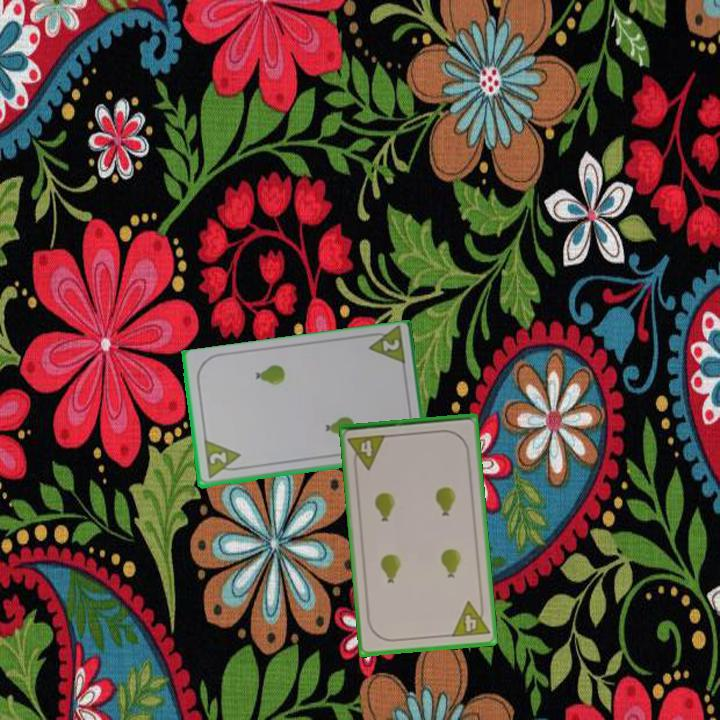2p: (362, 325, 408, 370), (200, 438, 244, 482)
4p: (448, 597, 492, 640), (344, 431, 389, 473)
